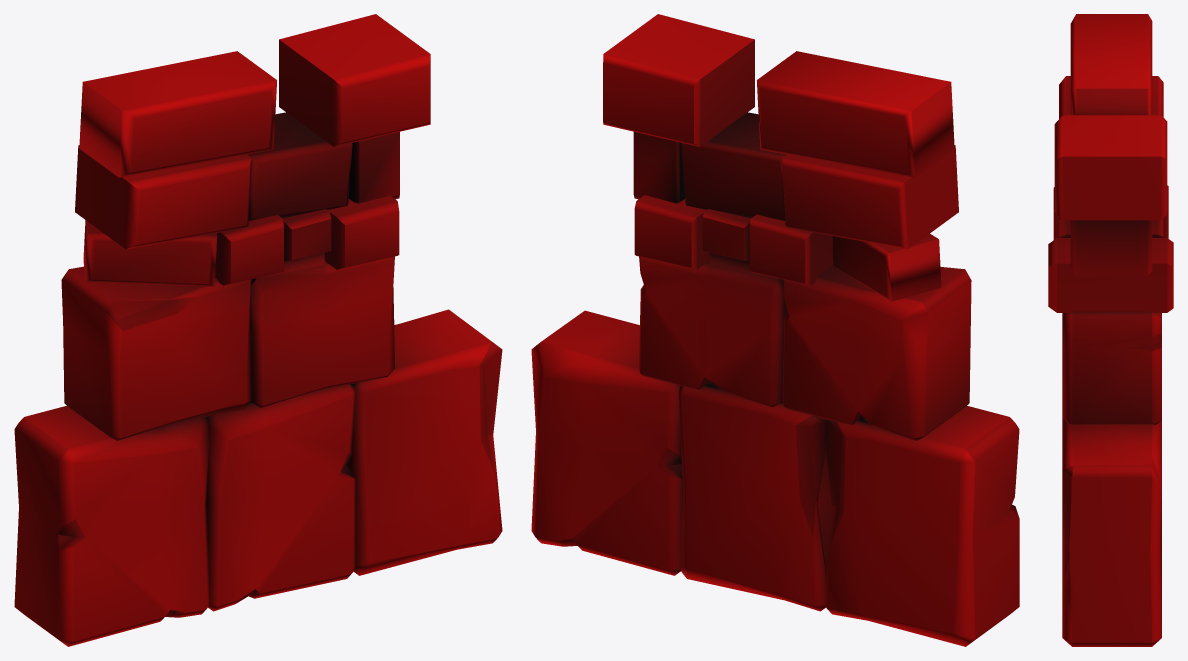
Rendered from buildings-ruins-ancientruins_v4.fbx.
3 renders of one model, left to right at view 1: azimuth 30°, elevation 25°; view 2: azimuth 150°, elevation 25°; view 3: azimuth 270°, elevation 25°, orthographic. The views are drawn at different scales.
Visible parts, largest first — view 1: AncientRuins_v4; view 2: AncientRuins_v4; view 3: AncientRuins_v4.
Boxes of the visible parts, x1,y1,x2,y2 form: AncientRuins_v4: (14,14,502,646); AncientRuins_v4: (531,14,1019,646); AncientRuins_v4: (1048,14,1173,646).
Size of the model in its own units: 3.1 by 3.47 by 0.8382.
